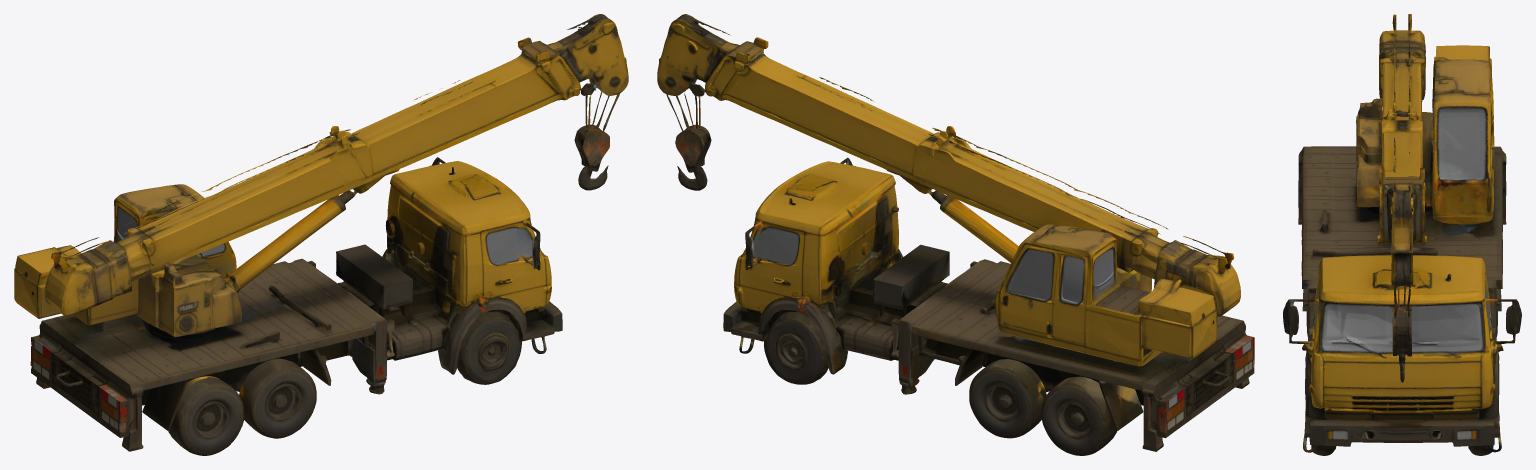
Rendered from tripo_convert_296191e3-9e86-45c8-8f14-4d686c0c7d86.obj.
The picture shows the model from 3 angles, left to right: view 1: azimuth 30°, elevation 25°; view 2: azimuth 150°, elevation 25°; view 3: azimuth 270°, elevation 25°; orthographic projection. The views are drawn at different scales.
Visible parts, largest first — view 1: tripo_node_296191e3-9e86-45c8-8f14-4d686c0c7d86; view 2: tripo_node_296191e3-9e86-45c8-8f14-4d686c0c7d86; view 3: tripo_node_296191e3-9e86-45c8-8f14-4d686c0c7d86.
Boxes of the visible parts, <box> form: tripo_node_296191e3-9e86-45c8-8f14-4d686c0c7d86: <box>14,14,628,455</box>; tripo_node_296191e3-9e86-45c8-8f14-4d686c0c7d86: <box>657,14,1254,455</box>; tripo_node_296191e3-9e86-45c8-8f14-4d686c0c7d86: <box>1283,14,1521,455</box>.
Size of the model in its own units: 1 by 0.5083 by 0.323.
1 material, 1 textured.
